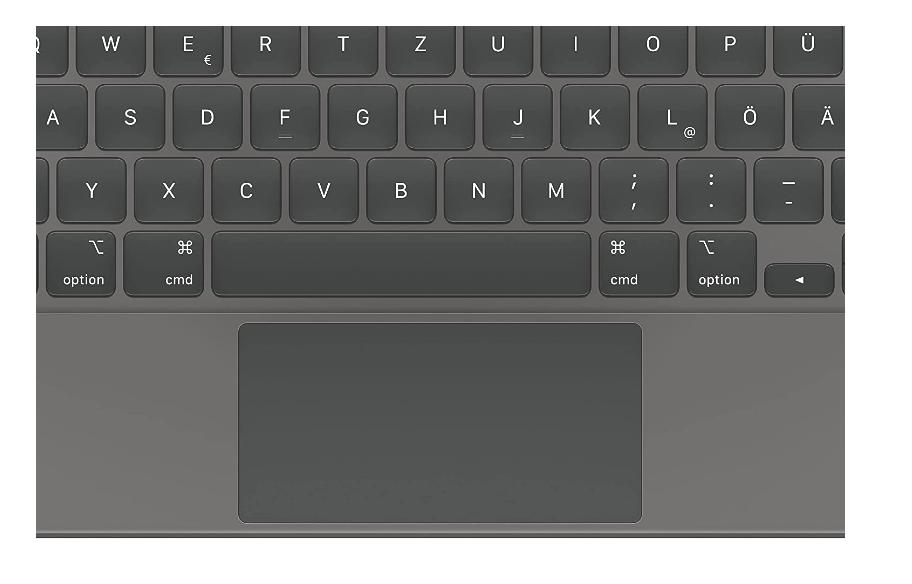a: (38, 81, 88, 152)
ae: (791, 79, 844, 149)
alt-left: (41, 227, 117, 299)
altgr-right: (683, 227, 759, 299)
b: (363, 152, 438, 222)
c: (208, 152, 281, 223)
comma: (595, 152, 668, 221)
d: (169, 79, 242, 150)
e: (153, 24, 226, 76)
f: (248, 79, 320, 149)
g: (325, 79, 398, 149)
h: (402, 79, 474, 150)
i: (538, 23, 611, 74)
j: (480, 78, 552, 150)
k: (557, 79, 630, 149)
l: (634, 79, 707, 150)
m: (517, 152, 591, 222)
minus: (751, 153, 824, 222)
n: (440, 152, 514, 223)
o: (615, 23, 688, 75)
oe: (712, 79, 785, 150)
p: (692, 24, 766, 75)
point: (673, 152, 746, 220)
r: (229, 24, 302, 76)
s: (92, 79, 165, 150)
space: (208, 225, 592, 299)
t: (307, 24, 380, 76)
u: (461, 24, 535, 77)
ue: (773, 24, 847, 77)
v: (285, 152, 359, 222)
w: (73, 23, 146, 74)
x: (130, 152, 204, 222)
y: (53, 152, 127, 222)
z: (383, 23, 456, 75)
